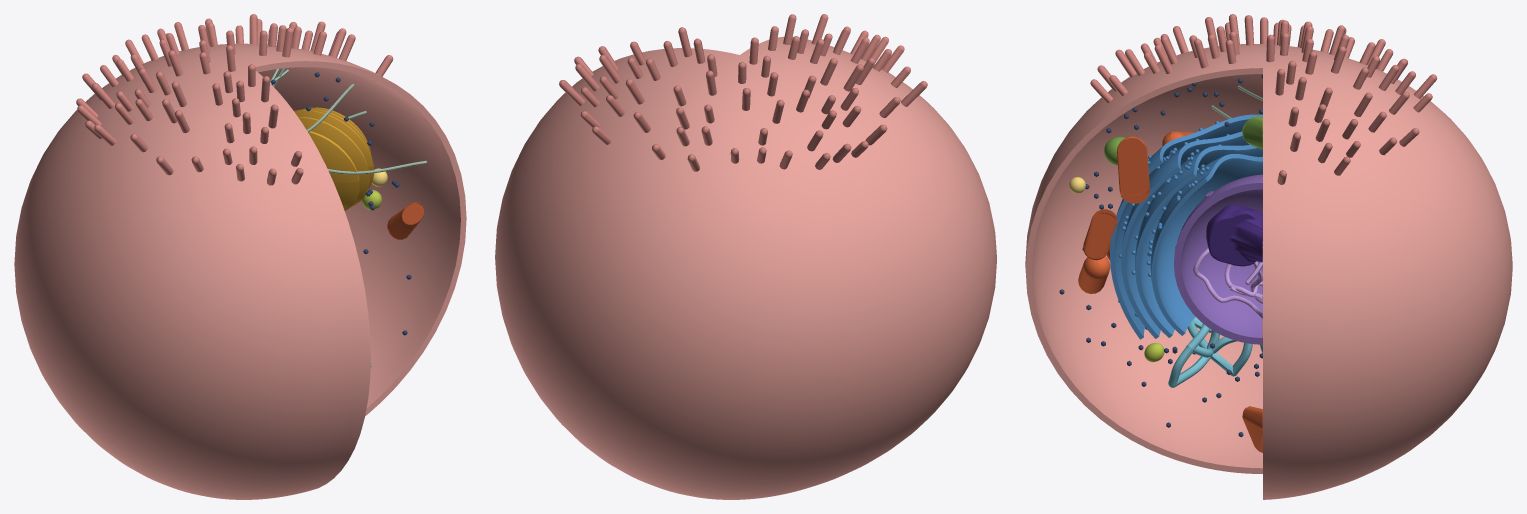
Rendered from cell.glb.
The picture shows the model from 3 angles, left to right: view 1: azimuth 30°, elevation 25°; view 2: azimuth 150°, elevation 25°; view 3: azimuth 270°, elevation 25°; orthographic projection. The views are drawn at different scales.
Visible parts, largest first — view 1: plasma-membrane, microvilli, golgi-apparatus, mitochondria, microtubules; view 2: plasma-membrane, microvilli; view 3: plasma-membrane, rough-er, microvilli, nuclear-envelope, mitochondria, nucleolus, smooth-er, chromatin, ribosomes, lysosomes.
Boxes of the visible parts, left/top/right/bottom form: plasma-membrane: left=14, top=43, right=466, bottom=499; microvilli: left=76, top=14, right=393, bottom=185; golgi-apparatus: left=294, top=107, right=374, bottom=210; mitochondria: left=387, top=202, right=424, bottom=239; microtubules: left=270, top=68, right=427, bottom=366; plasma-membrane: left=495, top=36, right=996, bottom=499; microvilli: left=559, top=14, right=927, bottom=171; plasma-membrane: left=1025, top=44, right=1512, bottom=499; rough-er: left=1110, top=114, right=1262, bottom=339; microvilli: left=1090, top=14, right=1437, bottom=184; nuclear-envelope: left=1174, top=174, right=1262, bottom=344; mitochondria: left=1078, top=131, right=1262, bottom=452; nucleolus: left=1206, top=204, right=1262, bottom=266; smooth-er: left=1168, top=317, right=1262, bottom=387; chromatin: left=1193, top=241, right=1262, bottom=319; ribosomes: left=1059, top=75, right=1262, bottom=436; lysosomes: left=1104, top=116, right=1262, bottom=165.
Bounding box in the file's own units: 6.01 × 5.85 × 6.01.
